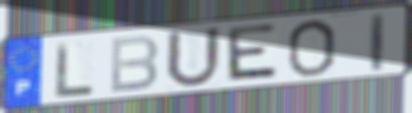B: (107, 33, 161, 96)
E: (222, 22, 281, 84)
I: (368, 11, 386, 74)
L: (53, 40, 96, 101)
O: (285, 17, 339, 79)
U: (163, 25, 224, 90)
